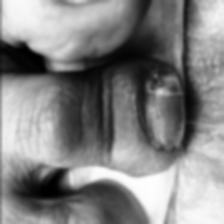Unclassified: (142, 69, 184, 160)
